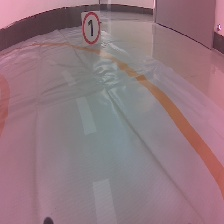limit: (80, 10, 104, 48)
